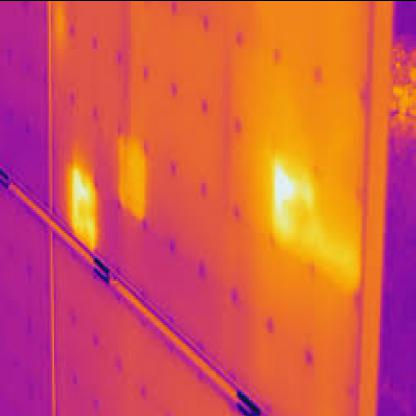Defects: (118, 127, 156, 212), (267, 157, 308, 226), (66, 180, 96, 240)
